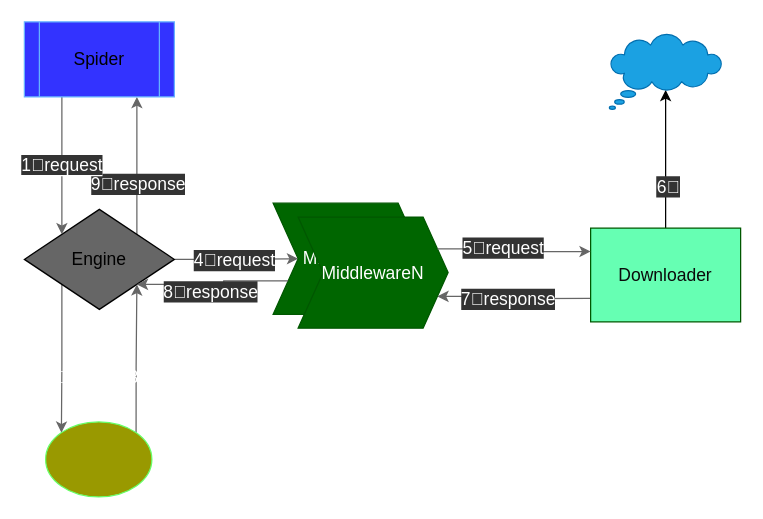
Some shapes in this 763 by 519 pixel diagram are drawn without their labels. Here are the shapes that lost their labels. From the top down, the centre of each, then its label:
At [665,71]: "Internet".
At [98,459]: "Scheduler".
